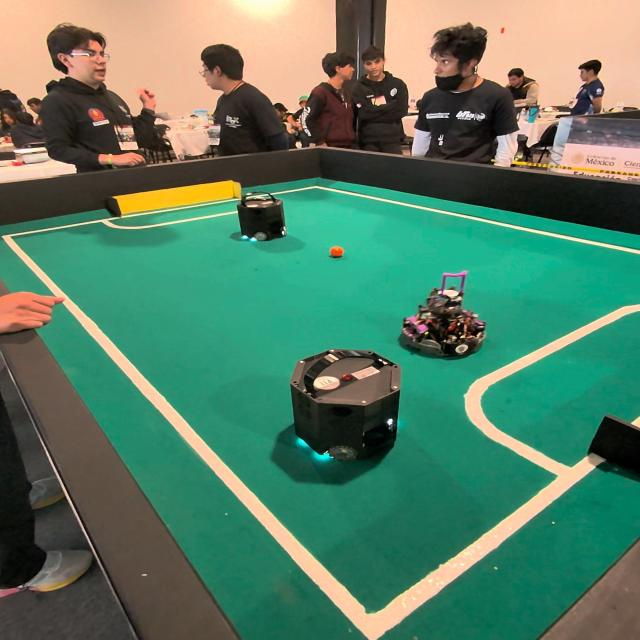Robot: (280, 336, 404, 486), (401, 286, 487, 364), (234, 188, 292, 252)
pelota: (329, 247, 344, 258)
